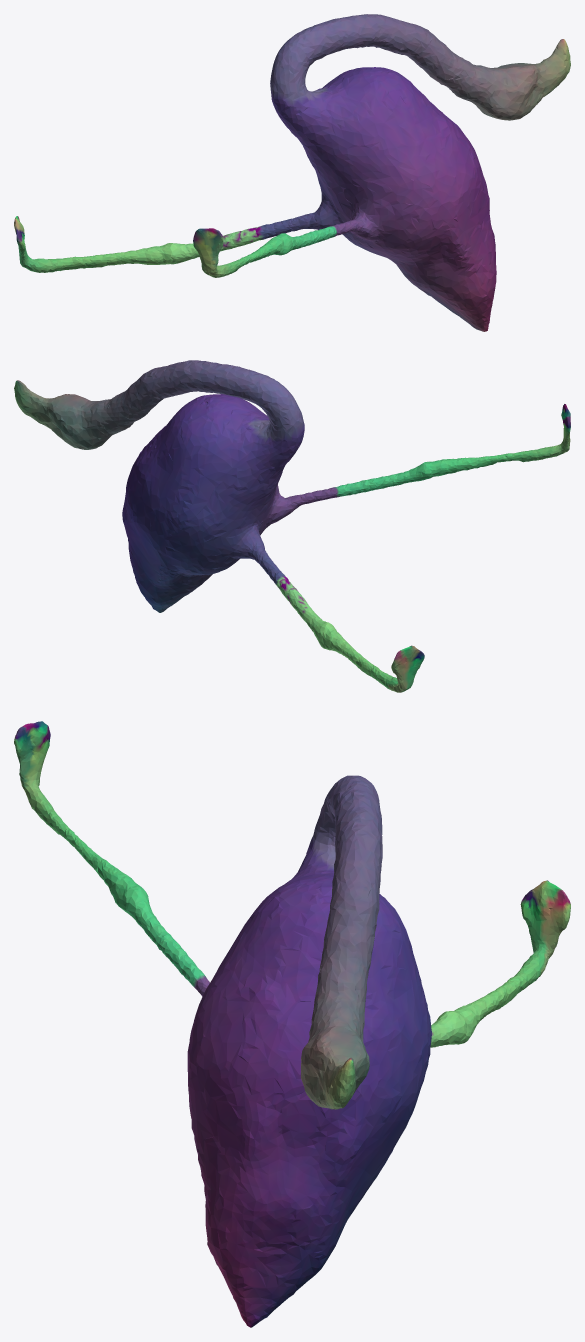
The model's file is flamingo-15.off.obj.
3 renders of one model, top to bottom at view 1: azimuth 30°, elevation 25°; view 2: azimuth 150°, elevation 25°; view 3: azimuth 270°, elevation 25°, orthographic. The views are drawn at different scales.
Size of the model in its own units: 1.37 by 0.8337 by 0.9311.
